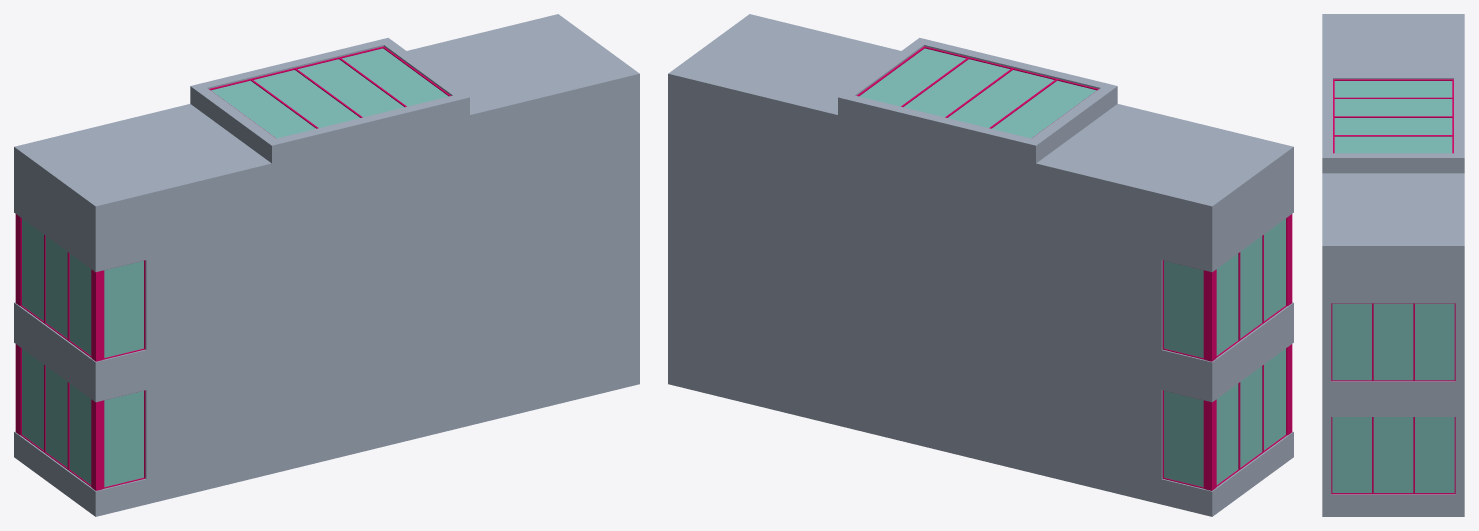
File: House_1_2.FBX
3 renders of one model, left to right at view 1: azimuth 30°, elevation 25°; view 2: azimuth 150°, elevation 25°; view 3: azimuth 270°, elevation 25°, orthographic. The views are drawn at different scales.
Parts seen in each view (by area): view 1: H1-mod-2_LOD0; view 2: H1-mod-2_LOD0; view 3: H1-mod-2_LOD0.
Part boxes in pixels (left/top/right/bottom): H1-mod-2_LOD0: left=14, top=14, right=639, bottom=516; H1-mod-2_LOD0: left=668, top=14, right=1293, bottom=516; H1-mod-2_LOD0: left=1322, top=14, right=1464, bottom=516.
Size of what is drawn, in the model's own units: 1926 by 1110 by 500.
